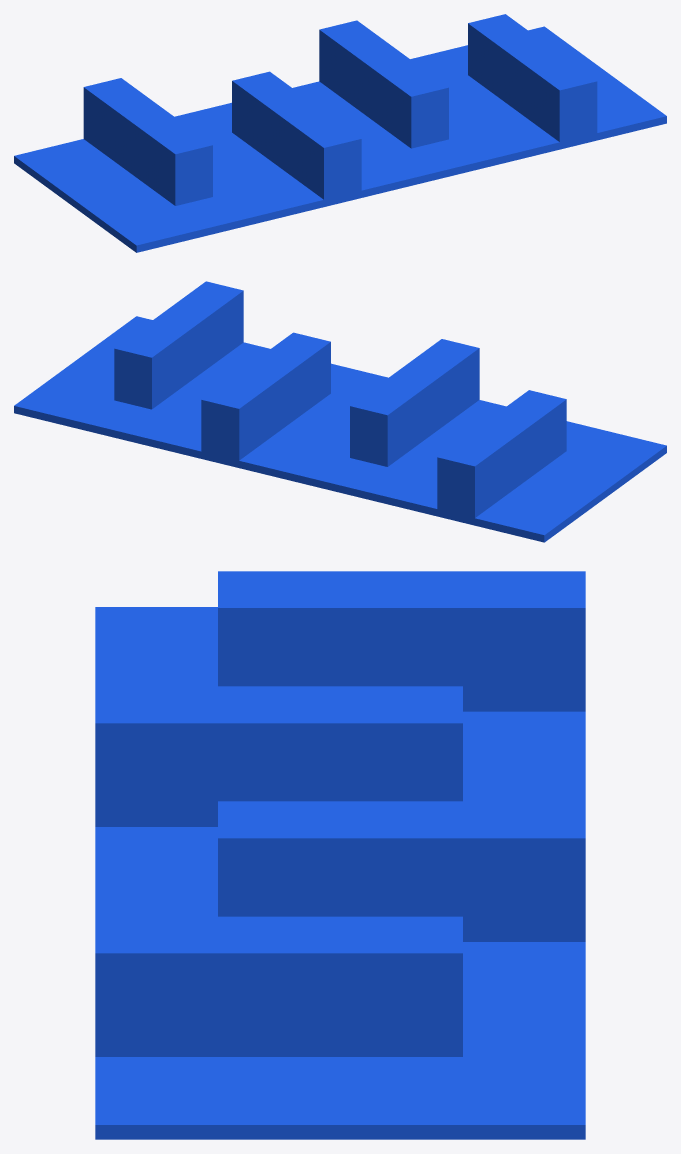
File: Tower.fbx
The picture shows the model from 3 angles, top to bottom: view 1: azimuth 30°, elevation 25°; view 2: azimuth 150°, elevation 25°; view 3: azimuth 270°, elevation 25°; orthographic projection. The views are drawn at different scales.
Parts seen in each view (by area): view 1: Box002; view 2: Box002; view 3: Box002.
Part boxes in pixels (box(x1,y1,x2,y2)): Box002: box(14, 14, 666, 252); Box002: box(14, 281, 666, 542); Box002: box(95, 571, 585, 1139).
Size of the model in its own units: 591 by 62.99 by 236.
